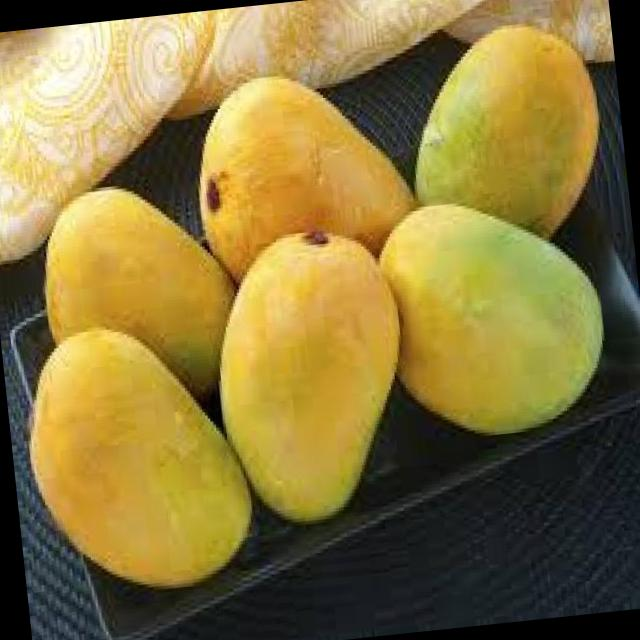Mango: (17, 309, 262, 601), (204, 220, 420, 528), (374, 185, 616, 444), (187, 59, 422, 286), (34, 170, 247, 414), (398, 13, 613, 253)
